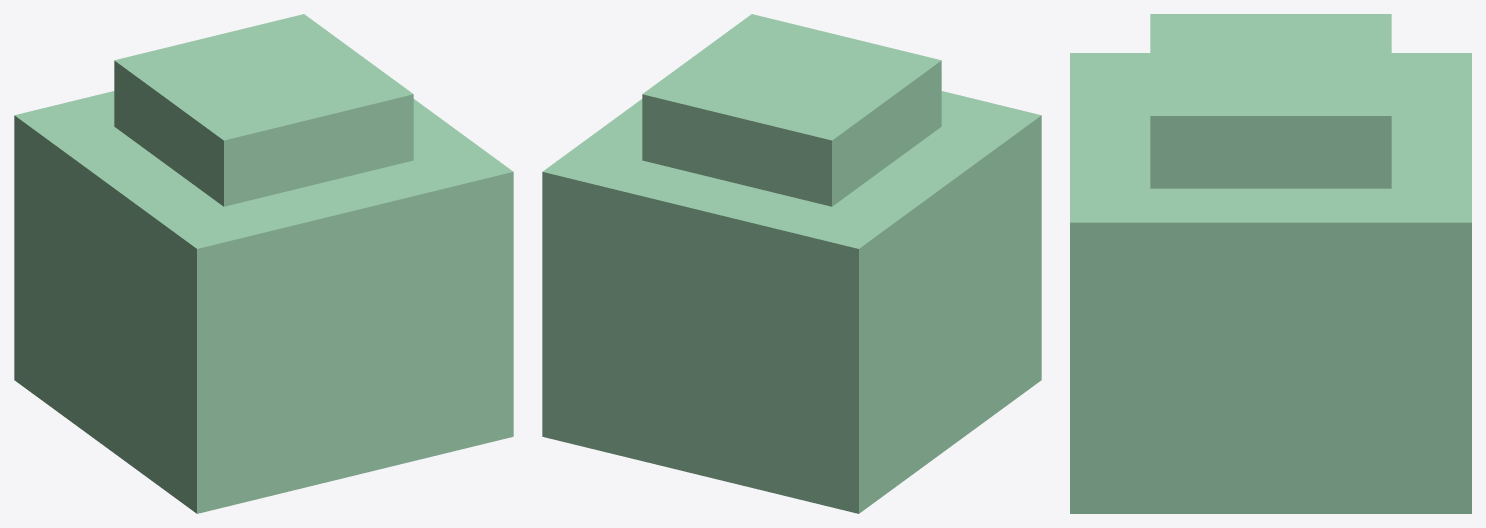
The model's file is Item_DS_Food_HerbTea_V1.glb.
The picture shows the model from 3 angles, left to right: view 1: azimuth 30°, elevation 25°; view 2: azimuth 150°, elevation 25°; view 3: azimuth 270°, elevation 25°; orthographic projection. The views are drawn at different scales.
Visible parts, largest first — view 1: Cube, Cube.001; view 2: Cube, Cube.001; view 3: Cube, Cube.001.
Part boxes in pixels (left/top/right/bottom): Cube: left=14, top=91, right=513, bottom=513; Cube.001: left=114, top=14, right=413, bottom=206; Cube: left=542, top=91, right=1041, bottom=513; Cube.001: left=642, top=14, right=941, bottom=206; Cube: left=1070, top=53, right=1471, bottom=513; Cube.001: left=1150, top=14, right=1391, bottom=188.
Bounding box in the file's own units: 0.22 × 0.22 × 0.22.
